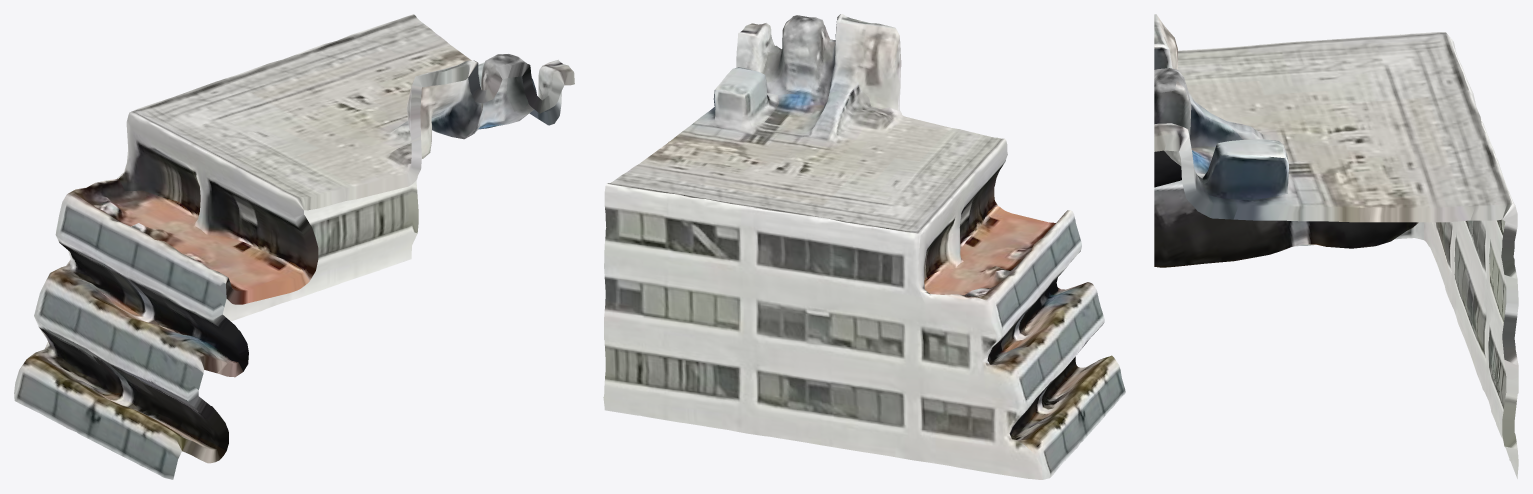
File: z20-167753-405238-h1-yup-uvflip-v3-world.glb
3 renders of one model, left to right at view 1: azimuth 30°, elevation 25°; view 2: azimuth 150°, elevation 25°; view 3: azimuth 270°, elevation 25°, orthographic. The views are drawn at different scales.
Bounding box in the file's own units: 22.28 × 16.52 × 14.16.
Materials: 1 (1 with a texture image).
